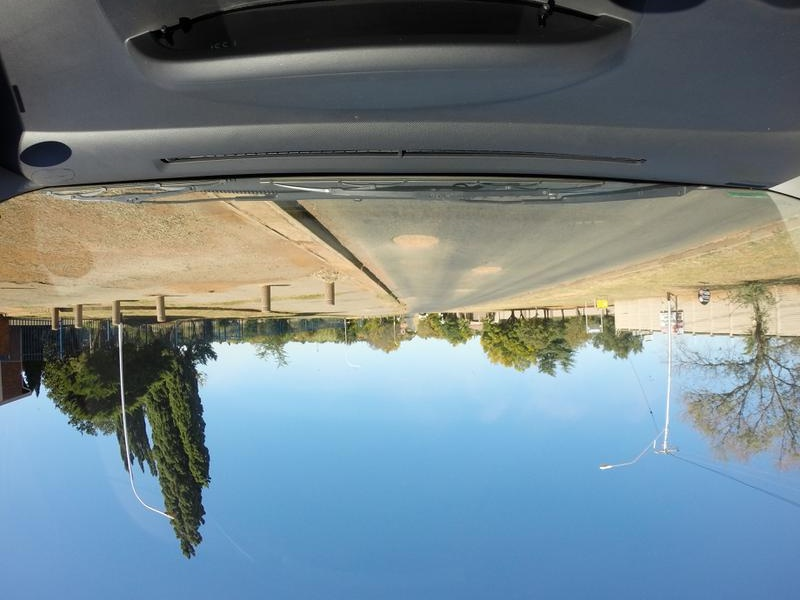pothole: (383, 218, 472, 256), (473, 261, 513, 280)
